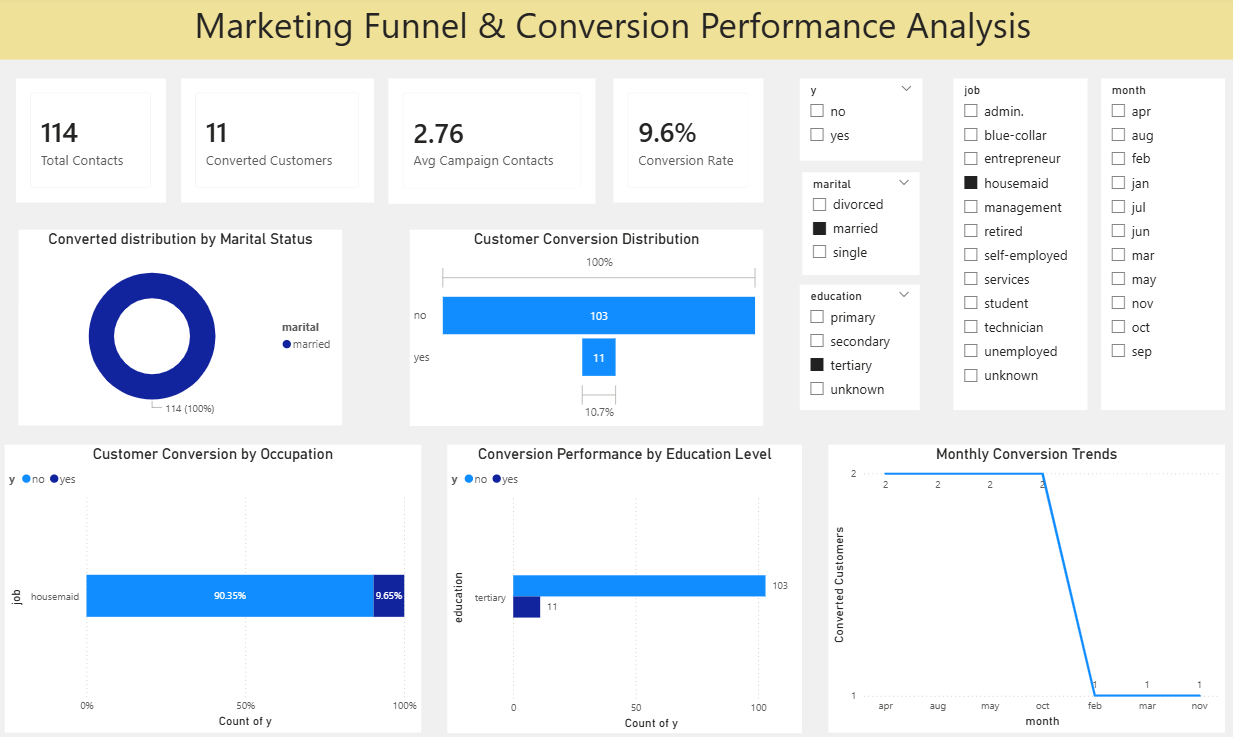

What the dashboard file says about the page in this screenshot:
{"tool":"powerbi","page":{"name":"Page 1","canvas":[1500,900],"ordinal":0},"visuals":[{"type":"textbox","box":[0,0,1500.5,76.9],"z":0},{"type":"cardVisual","fields":{"Data":["bank-full.Total Contacts"]},"box":[30.2,98.9,181,149.6],"z":1000},{"type":"cardVisual","fields":{"Data":["bank-full.Converted Customers"]},"box":[229.2,98.9,232.8,149.6],"z":2000},{"type":"cardVisual","fields":{"Data":["bank-full.Conversion Rate"]},"box":[750.4,100.1,181,149.6],"z":3000},{"type":"cardVisual","fields":{"Data":["bank-full.Avg Campaign Contacts"]},"box":[479,98.9,249.7,150.8],"z":4000},{"type":"funnel","title":"Customer Conversion Distribution","fields":{"Y":["CountNonNull(bank-full.marital)"],"Category":["bank-full.y"]},"box":[505.2,282,426.8,236.8],"z":5000},{"type":"hundredPercentStackedBarChart","title":"Customer Conversion by Occupation","fields":{"Category":["bank-full.job"],"Series":["bank-full.y"],"Y":["CountNonNull(bank-full.y)"]},"box":[16.6,541.4,502.2,346.9],"z":6000},{"type":"donutChart","title":"Converted distribution by Marital Status","fields":{"Category":["bank-full.marital"],"Y":["CountNonNull(bank-full.y)"]},"box":[33.8,281.4,390.8,236.4],"z":7000},{"type":"slicer","fields":{"Values":["bank-full.y"]},"box":[975.7,99.5,147.8,99.5],"z":8000},{"type":"clusteredBarChart","title":"Conversion Performance by Education Level","fields":{"Category":["bank-full.education"],"Series":["bank-full.y"],"Y":["CountNonNull(bank-full.y)"]},"box":[550.4,541.4,428.3,348.4],"z":9000},{"type":"lineChart","title":"Monthly Conversion Trends","fields":{"Category":["bank-full.month"],"Y":["bank-full.Converted Customers"]},"box":[1010.4,541.4,478.1,346.9],"z":10000},{"type":"slicer","fields":{"Values":["bank-full.marital"]},"box":[978.7,212.6,141.8,123.7],"z":11000},{"type":"slicer","fields":{"Values":["bank-full.month"]},"box":[1339.1,99.5,149.3,399.6],"z":12000},{"type":"slicer","fields":{"Values":["bank-full.job"]},"box":[1161.2,99.5,161.4,399.6],"z":13000},{"type":"slicer","fields":{"Values":["bank-full.education"]},"box":[975.7,348.4,144.8,150.8],"z":14000}]}

Visuals, with their boxes in screenshot pixels (x1, y1, x2, y2), scaled from the page's 1500x900 canvas onto the 1233x737 screenshot:
textbox: select_region(0, 0, 1232, 63)
cardVisual - bank-full.Total Contacts: select_region(25, 81, 174, 203)
cardVisual - bank-full.Converted Customers: select_region(188, 81, 380, 203)
cardVisual - bank-full.Conversion Rate: select_region(617, 82, 766, 204)
cardVisual - bank-full.Avg Campaign Contacts: select_region(394, 81, 599, 204)
"Customer Conversion Distribution" funnel: select_region(415, 231, 766, 425)
"Customer Conversion by Occupation" hundredPercentStackedBarChart: select_region(14, 443, 426, 727)
"Converted distribution by Marital Status" donutChart: select_region(28, 230, 349, 424)
slicer - bank-full.y: select_region(802, 81, 924, 163)
"Conversion Performance by Education Level" clusteredBarChart: select_region(452, 443, 804, 729)
"Monthly Conversion Trends" lineChart: select_region(831, 443, 1224, 727)
slicer - bank-full.marital: select_region(804, 174, 921, 275)
slicer - bank-full.month: select_region(1101, 81, 1223, 409)
slicer - bank-full.job: select_region(955, 81, 1087, 409)
slicer - bank-full.education: select_region(802, 285, 921, 409)
